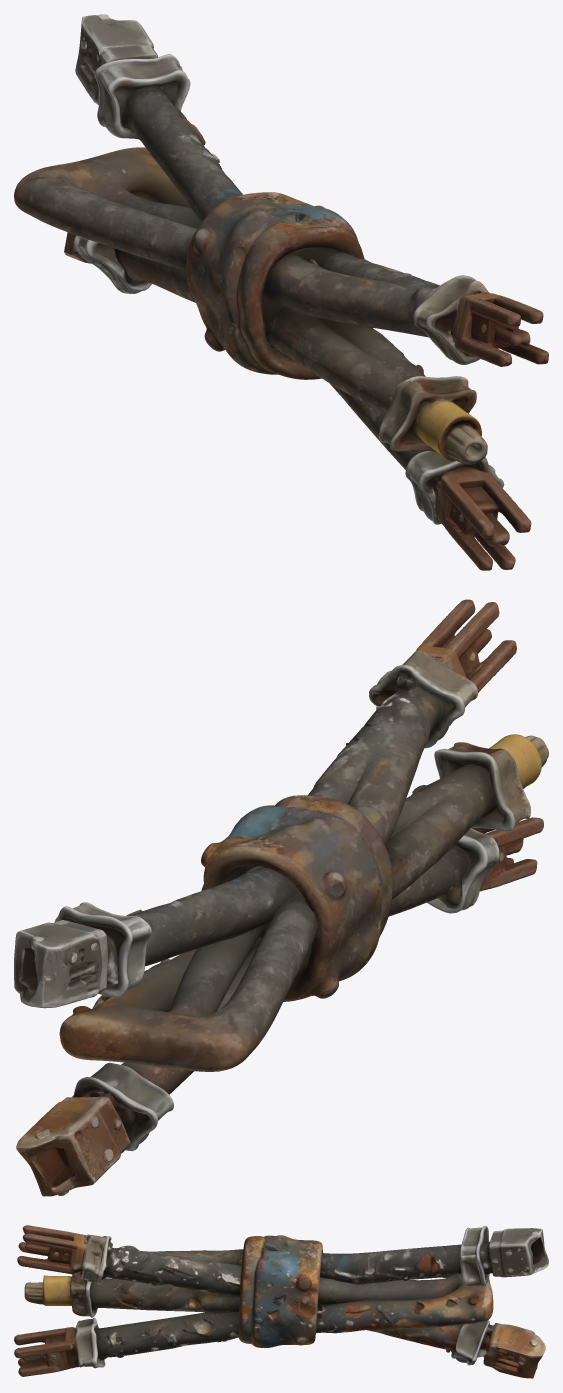
Rendered from line_cable.glb.
3 renders of one model, top to bottom at view 1: azimuth 30°, elevation 25°; view 2: azimuth 150°, elevation 25°; view 3: azimuth 270°, elevation 25°, orthographic. The views are drawn at different scales.
Parts seen in each view (by area): view 1: tripo_node_8ad0e241-73a5-4348-afc7-1ede038e8ebb; view 2: tripo_node_8ad0e241-73a5-4348-afc7-1ede038e8ebb; view 3: tripo_node_8ad0e241-73a5-4348-afc7-1ede038e8ebb.
Boxes of the visible parts, x1,y1,x2,y2 form: tripo_node_8ad0e241-73a5-4348-afc7-1ede038e8ebb: [14, 14, 548, 570]; tripo_node_8ad0e241-73a5-4348-afc7-1ede038e8ebb: [14, 599, 548, 1196]; tripo_node_8ad0e241-73a5-4348-afc7-1ede038e8ebb: [14, 1225, 548, 1378].
Size of the model in its own units: 0.244 by 0.3085 by 0.9794.
1 material, 1 textured.
